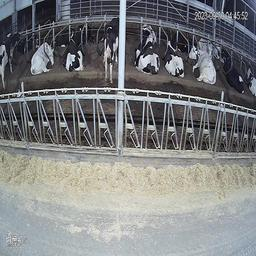cow: (0, 30, 21, 92), (188, 44, 217, 84), (134, 36, 160, 77), (221, 50, 245, 94), (102, 25, 119, 82), (62, 30, 86, 69), (29, 43, 55, 75), (162, 41, 185, 77), (197, 33, 217, 59), (139, 20, 157, 47), (78, 18, 95, 40), (246, 62, 255, 96)
